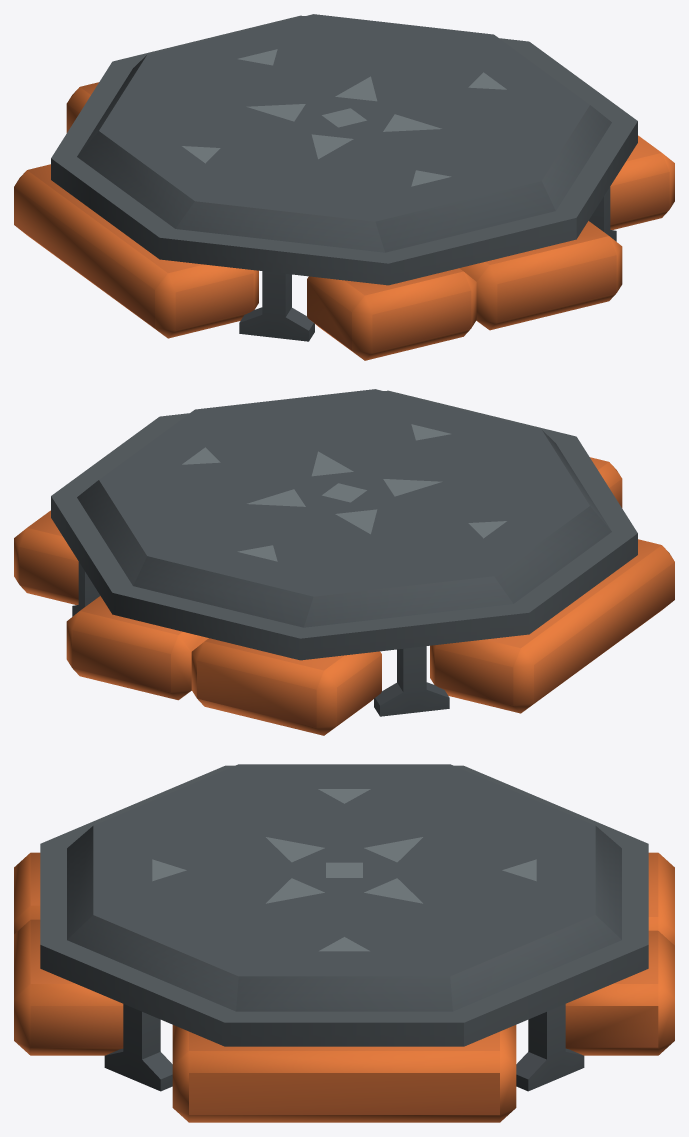
The model's file is landingPad.glb.
3 views of the same model, one above another, from view 1: azimuth 30°, elevation 25°; view 2: azimuth 150°, elevation 25°; view 3: azimuth 270°, elevation 25° (orthographic). The views are drawn at different scales.
Parts seen in each view (by area): view 1: landingpad_large; view 2: landingpad_large; view 3: landingpad_large.
Boxes of the visible parts, left/top/right/bottom form: landingpad_large: left=14, top=14, right=674, bottom=360; landingpad_large: left=14, top=389, right=674, bottom=735; landingpad_large: left=14, top=764, right=674, bottom=1122.
Size of the model in its own units: 15.46 by 3.09 by 15.46.
1 material, 1 textured.
